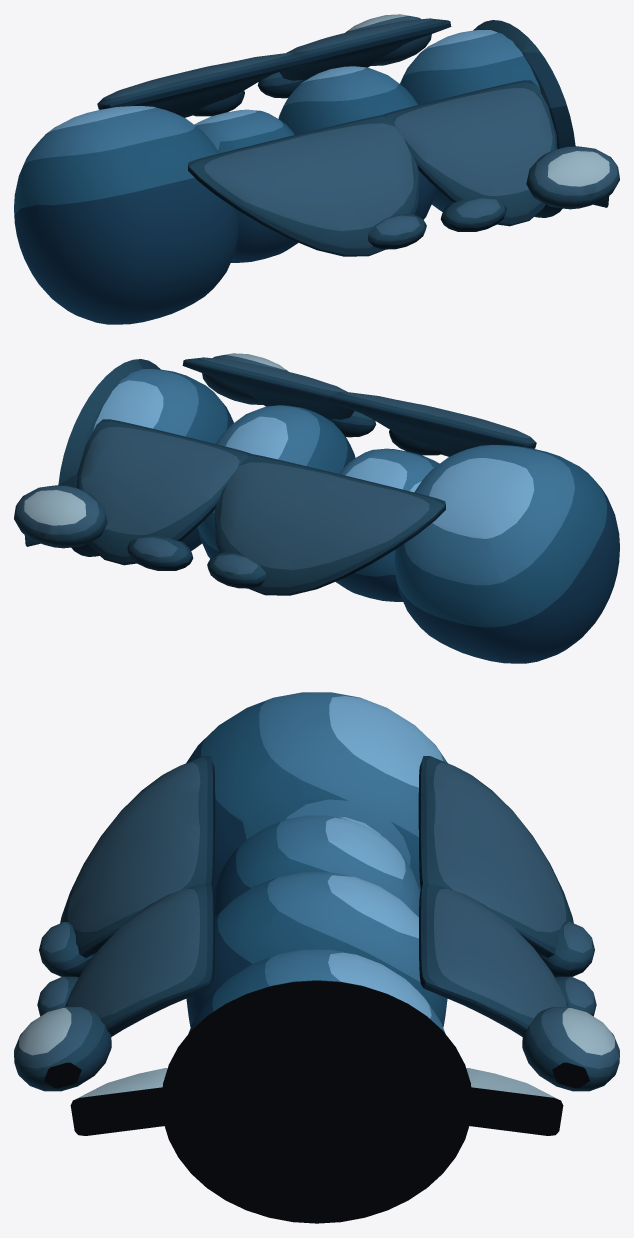
The model's file is cruiser_rear.glb.
The picture shows the model from 3 angles, top to bottom: view 1: azimuth 30°, elevation 25°; view 2: azimuth 150°, elevation 25°; view 3: azimuth 270°, elevation 25°; orthographic projection. The views are drawn at different scales.
Parts seen in each view (by area): view 1: cruiser_rear; view 2: cruiser_rear; view 3: cruiser_rear.
Part boxes in pixels (x1,y1,x2,y2): cruiser_rear: (14, 14, 619, 324); cruiser_rear: (14, 353, 619, 663); cruiser_rear: (14, 692, 619, 1223).
Bounding box in the file's own units: 23.1 × 8.79 × 18.48.
